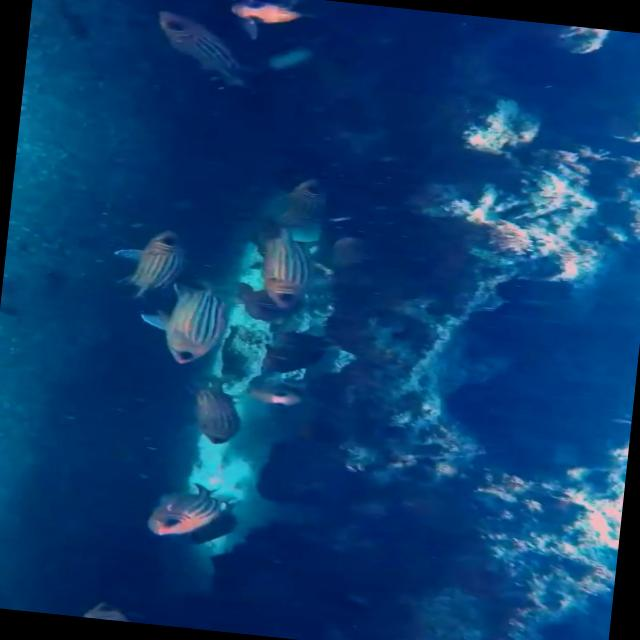Asker Baligi: (120, 5, 267, 93), (238, 214, 340, 320), (96, 222, 208, 308), (135, 277, 233, 368), (132, 474, 232, 550), (180, 376, 248, 446)
